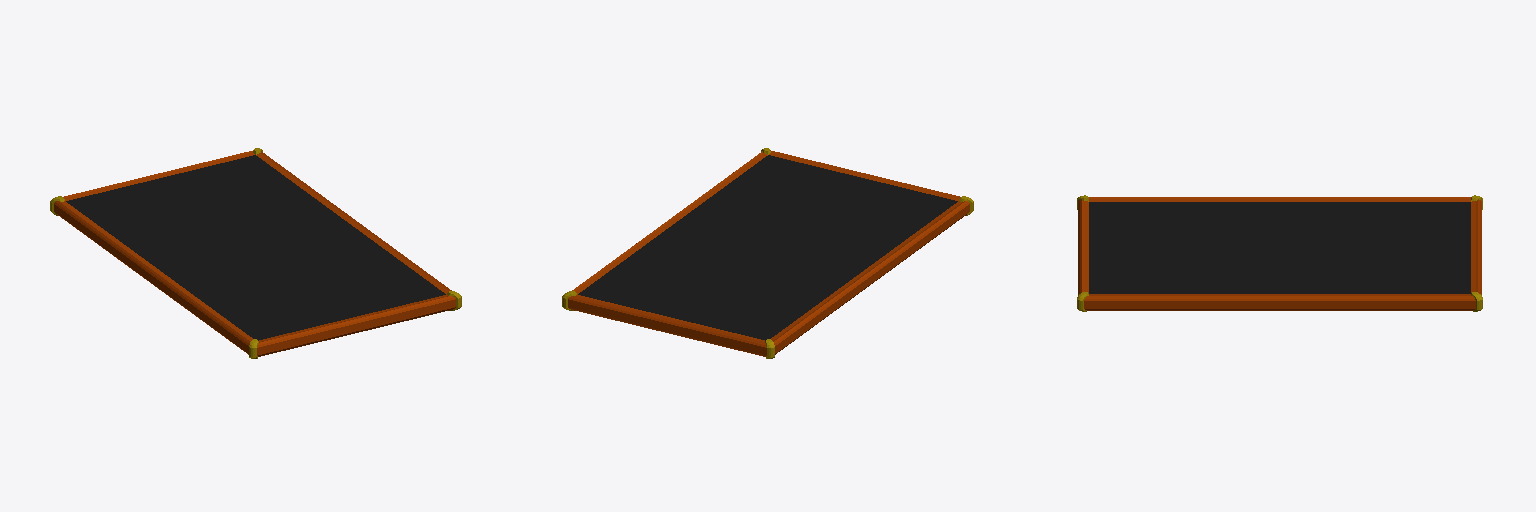
The model's file is floatingPlatformNiktest.obj.
The picture shows the model from 3 angles: view 1: azimuth 30°, elevation 25°; view 2: azimuth 150°, elevation 25°; view 3: azimuth 270°, elevation 25°; orthographic projection.
Parts seen in each view (by area): view 1: Cube.001; view 2: Cube.001; view 3: Cube.001.
Part boxes in pixels (left/top/right/bottom): Cube.001: left=50, top=148, right=461, bottom=358; Cube.001: left=562, top=148, right=973, bottom=358; Cube.001: left=1077, top=195, right=1482, bottom=311.
Bounding box in the file's own units: 2.02 × 0.2027 × 3.36.